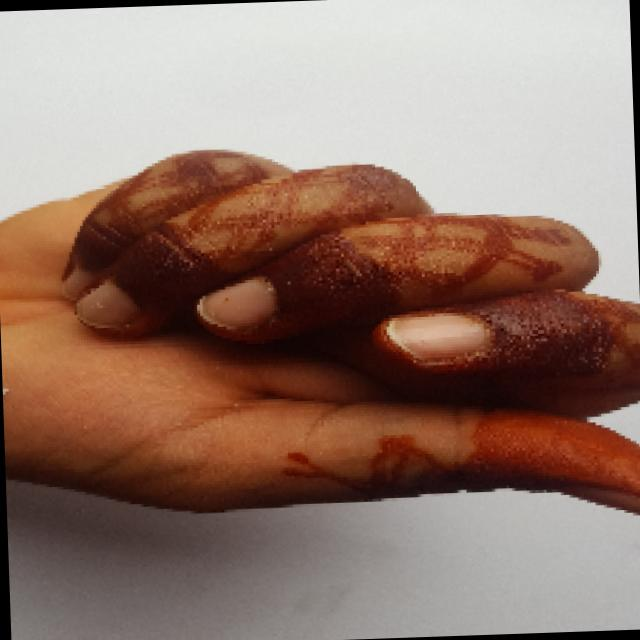Nail: (384, 312, 491, 358), (196, 276, 277, 329), (76, 280, 141, 329), (561, 483, 640, 514), (61, 265, 98, 300)
